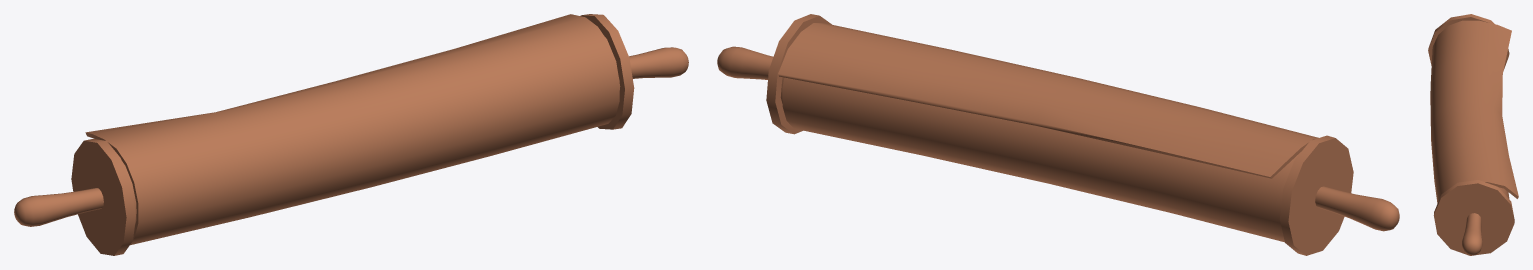
File: Scroll with UV shell.fbx
The picture shows the model from 3 angles, left to right: view 1: azimuth 30°, elevation 25°; view 2: azimuth 150°, elevation 25°; view 3: azimuth 270°, elevation 25°; orthographic projection. The views are drawn at different scales.
Parts seen in each view (by area): view 1: polySurface3, polySurface2, polySurface1; view 2: polySurface3, polySurface2, polySurface1; view 3: polySurface3, polySurface1, polySurface2.
Part boxes in pixels (x1=…): polySurface3: x1=85, y1=14, x2=619, y2=245; polySurface2: x1=14, y1=139, x2=136, y2=255; polySurface1: x1=580, y1=14, x2=688, y2=129; polySurface3: x1=778, y1=23, x2=1318, y2=242; polySurface2: x1=1279, y1=135, x2=1399, y2=255; polySurface1: x1=717, y1=14, x2=831, y2=134; polySurface3: x1=1430, y1=20, x2=1518, y2=203; polySurface1: x1=1433, y1=180, x2=1514, y2=255; polySurface2: x1=1428, y1=14, x2=1509, y2=70.
Size of the model in its own units: 48.08 by 7.47 by 8.35.
